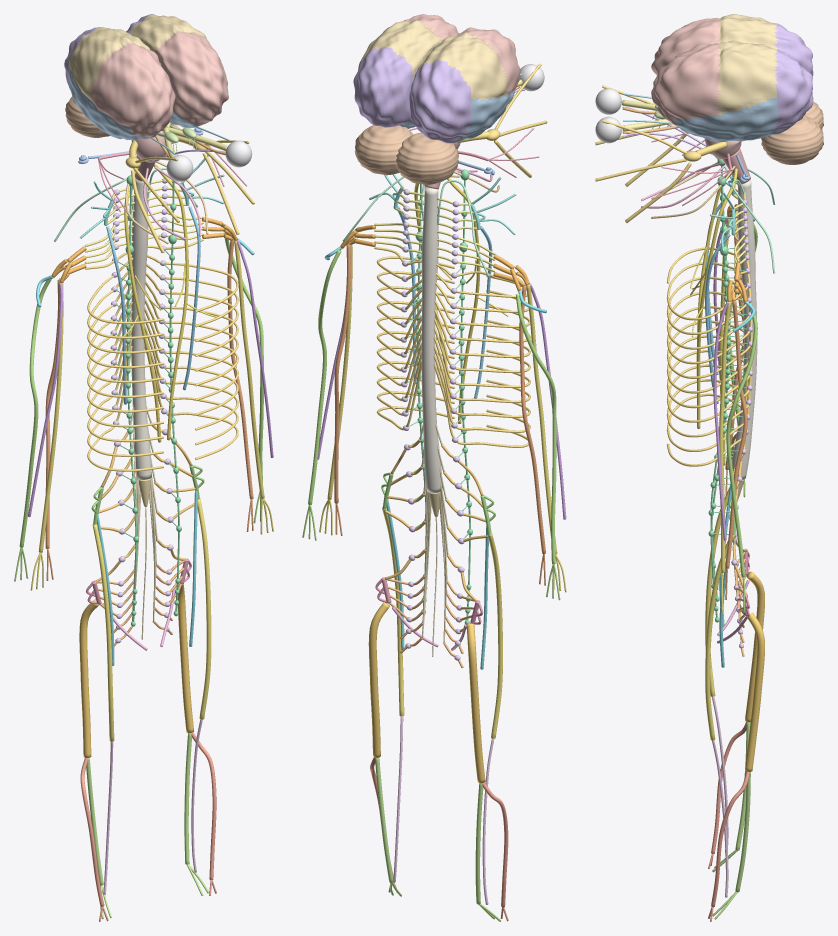
The model's file is nervous.glb.
3 renders of one model, left to right at view 1: azimuth 30°, elevation 25°; view 2: azimuth 150°, elevation 25°; view 3: azimuth 270°, elevation 25°, orthographic. The views are drawn at different scales.
Parts seen in each view (by area): view 1: Frontal_Lobe, Thoracic_Nerves, Parietal_Lobe, Spinal_Cord, Vagus_Nerve_X, Trigeminal_Nerve_V, Dorsal_Root_Ganglion, Sympathetic_Chain_L, Sympathetic_Chain_R, Temporal_Lobe, Cauda_Equina, Radial_Nerve_R (+26 smaller); view 2: Thoracic_Nerves, Occipital_Lobe, Parietal_Lobe, Spinal_Cord, Cerebellum, Dorsal_Root_Ganglion, Frontal_Lobe, Cauda_Equina, Cervical_Nerves, Sympathetic_Chain_R, Radial_Nerve_R, Lumbar_Nerves (+21 smaller); view 3: Frontal_Lobe, Thoracic_Nerves, Parietal_Lobe, Occipital_Lobe, Temporal_Lobe, Spinal_Cord, Cerebellum, Trigeminal_Nerve_V, Vagus_Nerve_X, Sympathetic_Chain_L, Radial_Nerve_L, Sciatic_Nerve_L (+19 smaller).
Part boxes in pixels (<box>): Frontal_Lobe: <box>91,29,228,137</box>; Thoracic_Nerves: <box>85,239,238,471</box>; Parietal_Lobe: <box>69,14,206,103</box>; Spinal_Cord: <box>131,179,151,479</box>; Vagus_Nerve_X: <box>117,163,216,442</box>; Trigeminal_Nerve_V: <box>125,135,254,253</box>; Dorsal_Root_Ganglion: <box>110,178,173,643</box>; Sympathetic_Chain_L: <box>162,181,181,616</box>; Sympathetic_Chain_R: <box>115,175,138,626</box>; Temporal_Lobe: <box>68,66,208,140</box>; Cauda_Equina: <box>130,403,157,639</box>; Radial_Nerve_R: <box>14,279,51,581</box>; Thoracic_Nerves: <box>374,246,530,447</box>; Occipital_Lobe: <box>353,47,471,143</box>; Parietal_Lobe: <box>361,20,508,100</box>; Spinal_Cord: <box>421,186,442,493</box>; Cerebellum: <box>354,125,458,184</box>; Dorsal_Root_Ganglion: <box>400,189,464,660</box>; Frontal_Lobe: <box>404,14,520,95</box>; Cauda_Equina: <box>419,421,448,656</box>; Cervical_Nerves: <box>374,186,495,272</box>; Sympathetic_Chain_R: <box>454,169,472,624</box>; Radial_Nerve_R: <box>516,294,560,600</box>; Lumbar_Nerves: <box>384,438,488,601</box>; Frontal_Lobe: <box>651,18,721,124</box>; Thoracic_Nerves: <box>666,226,752,466</box>; Parietal_Lobe: <box>716,14,778,115</box>; Occipital_Lobe: <box>773,23,813,134</box>; Temporal_Lobe: <box>673,98,777,142</box>; Spinal_Cord: <box>732,179,757,479</box>; Cerebellum: <box>761,101,823,164</box>; Trigeminal_Nerve_V: <box>595,85,727,222</box>; Vagus_Nerve_X: <box>690,168,737,428</box>; Sympathetic_Chain_L: <box>708,176,747,622</box>; Radial_Nerve_L: <box>726,303,757,612</box>; Sciatic_Nerve_L: <box>745,612,764,771</box>.
Bounding box in the file's own units: 2.84 × 9.33 × 2.24.
